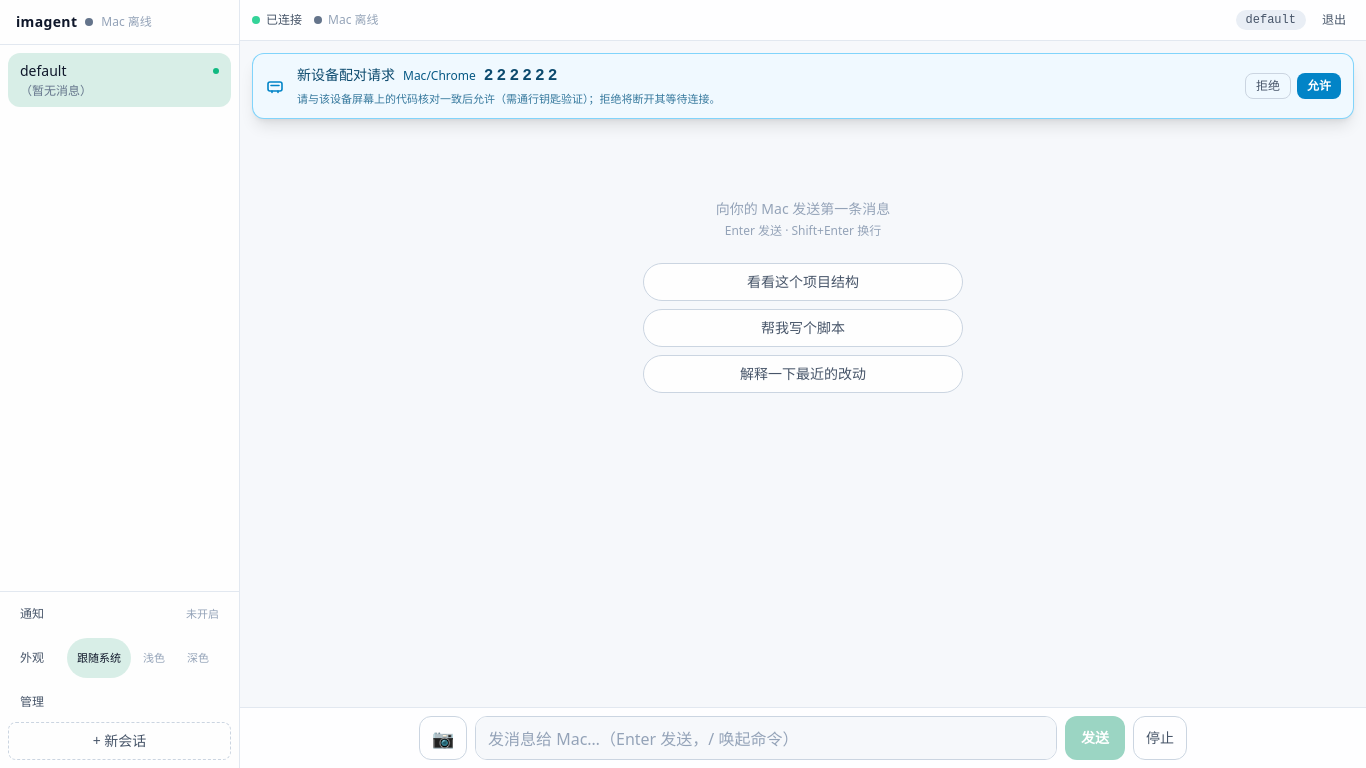
Test case: App 配对批准侧（v1.5） › 拒绝（同样管理级 re-auth）→ pairing_deny 帧
Click the button "拒绝".
click(1268, 86)  # box top-left (1245, 73), bottom-right (1291, 99)
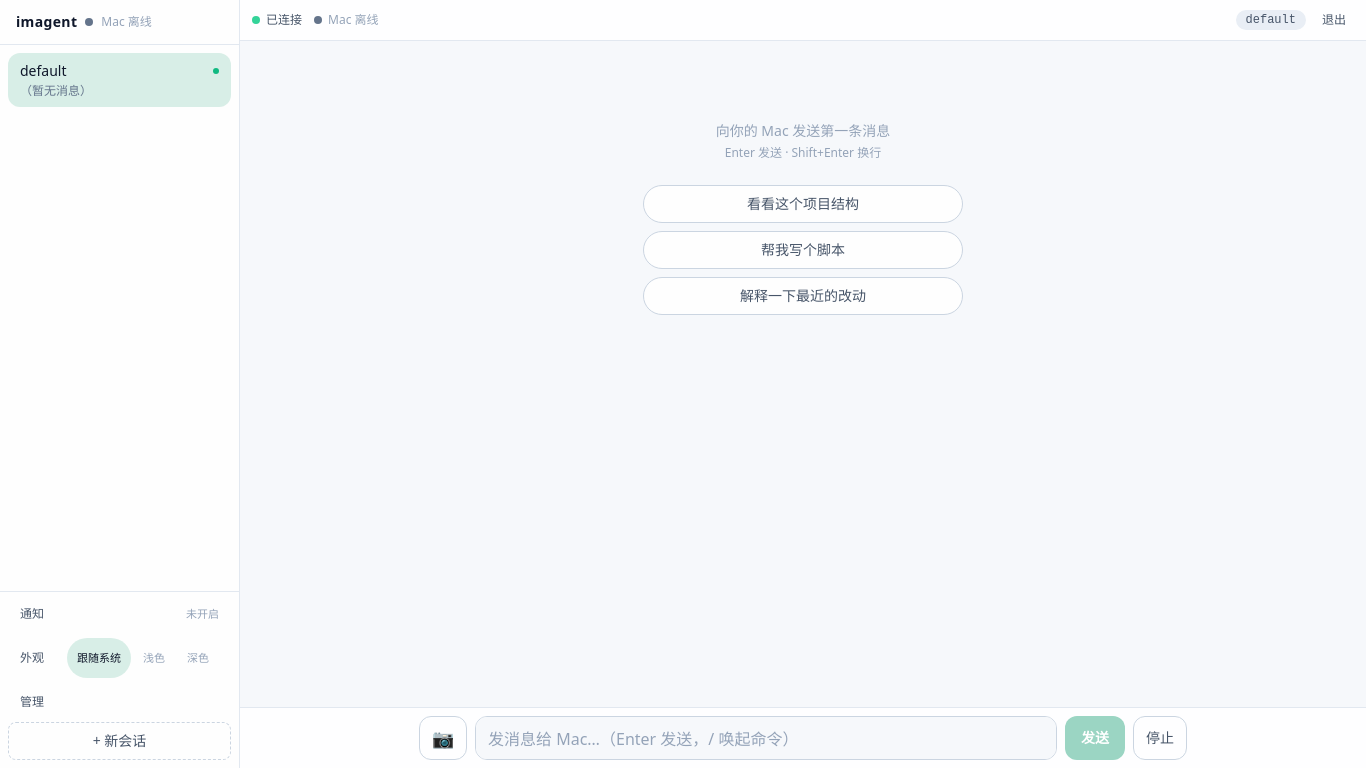
Check: the text "新设备配对请求" is gone
